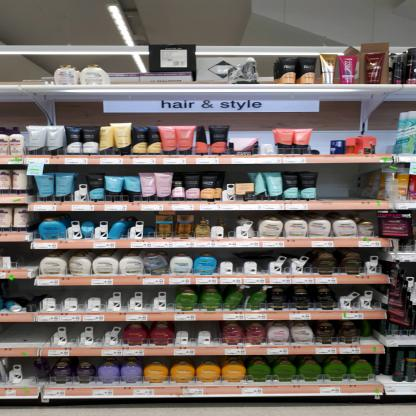Void: (40, 289, 168, 311), (51, 323, 122, 345), (322, 164, 374, 192), (215, 248, 261, 274), (209, 213, 251, 238), (268, 250, 311, 274), (342, 285, 380, 310), (5, 322, 46, 345), (179, 326, 220, 344), (377, 126, 398, 153), (5, 282, 31, 299), (14, 243, 34, 264), (362, 323, 378, 346), (315, 127, 328, 155)
